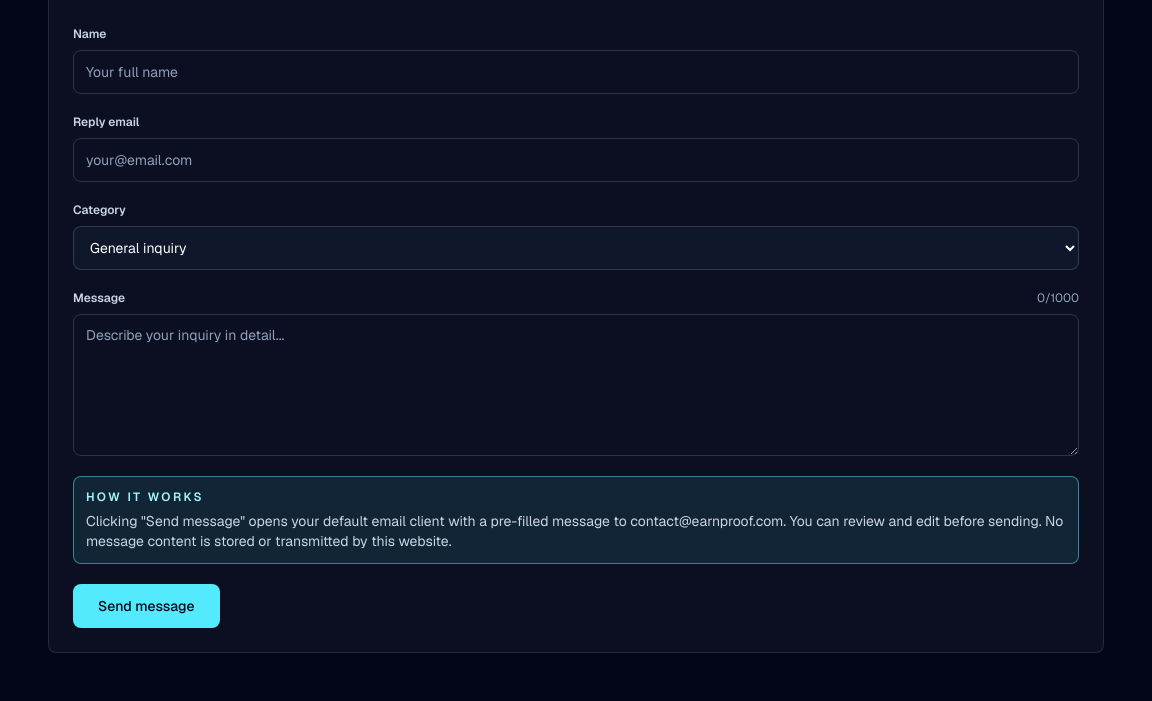
ContactPage › displays validation errors when form is submitted empty
(page scrolled)
Click the button "Send message" at (146, 606), box 73,584 -> 220,628
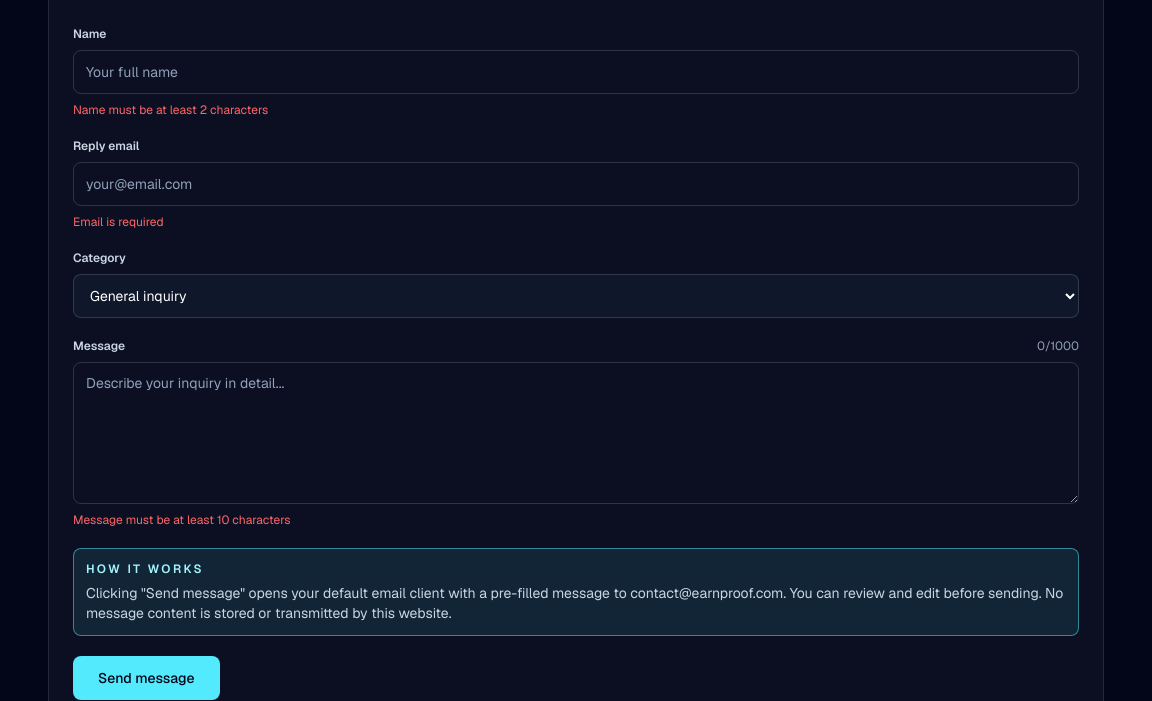
Result: the text "Name must be at least 2 characters" is shown at 73,102 -> 268,118
Result: the text "Email is required" is shown at 73,214 -> 164,230
Result: the text "Message must be at least 10 characters" is shown at 73,512 -> 290,528
